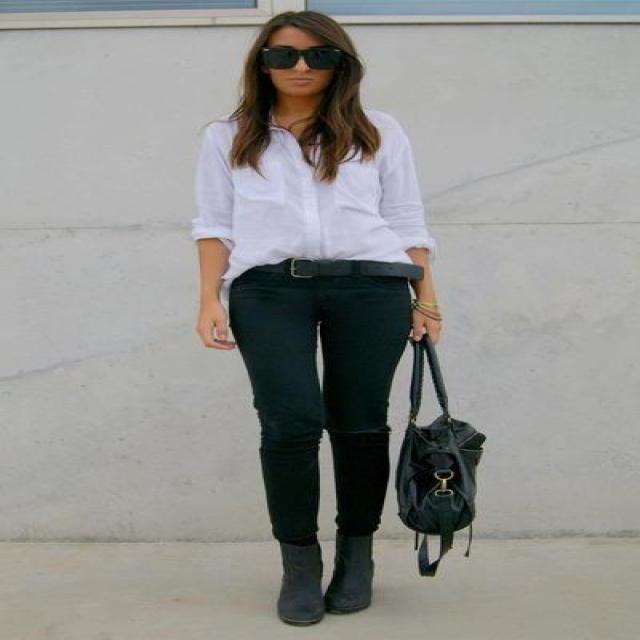bag: (395, 333, 485, 575)
pants: (228, 275, 418, 545)
shirt: (192, 127, 430, 268)
shoe: (277, 530, 373, 626)
sunglass: (278, 46, 316, 68)
